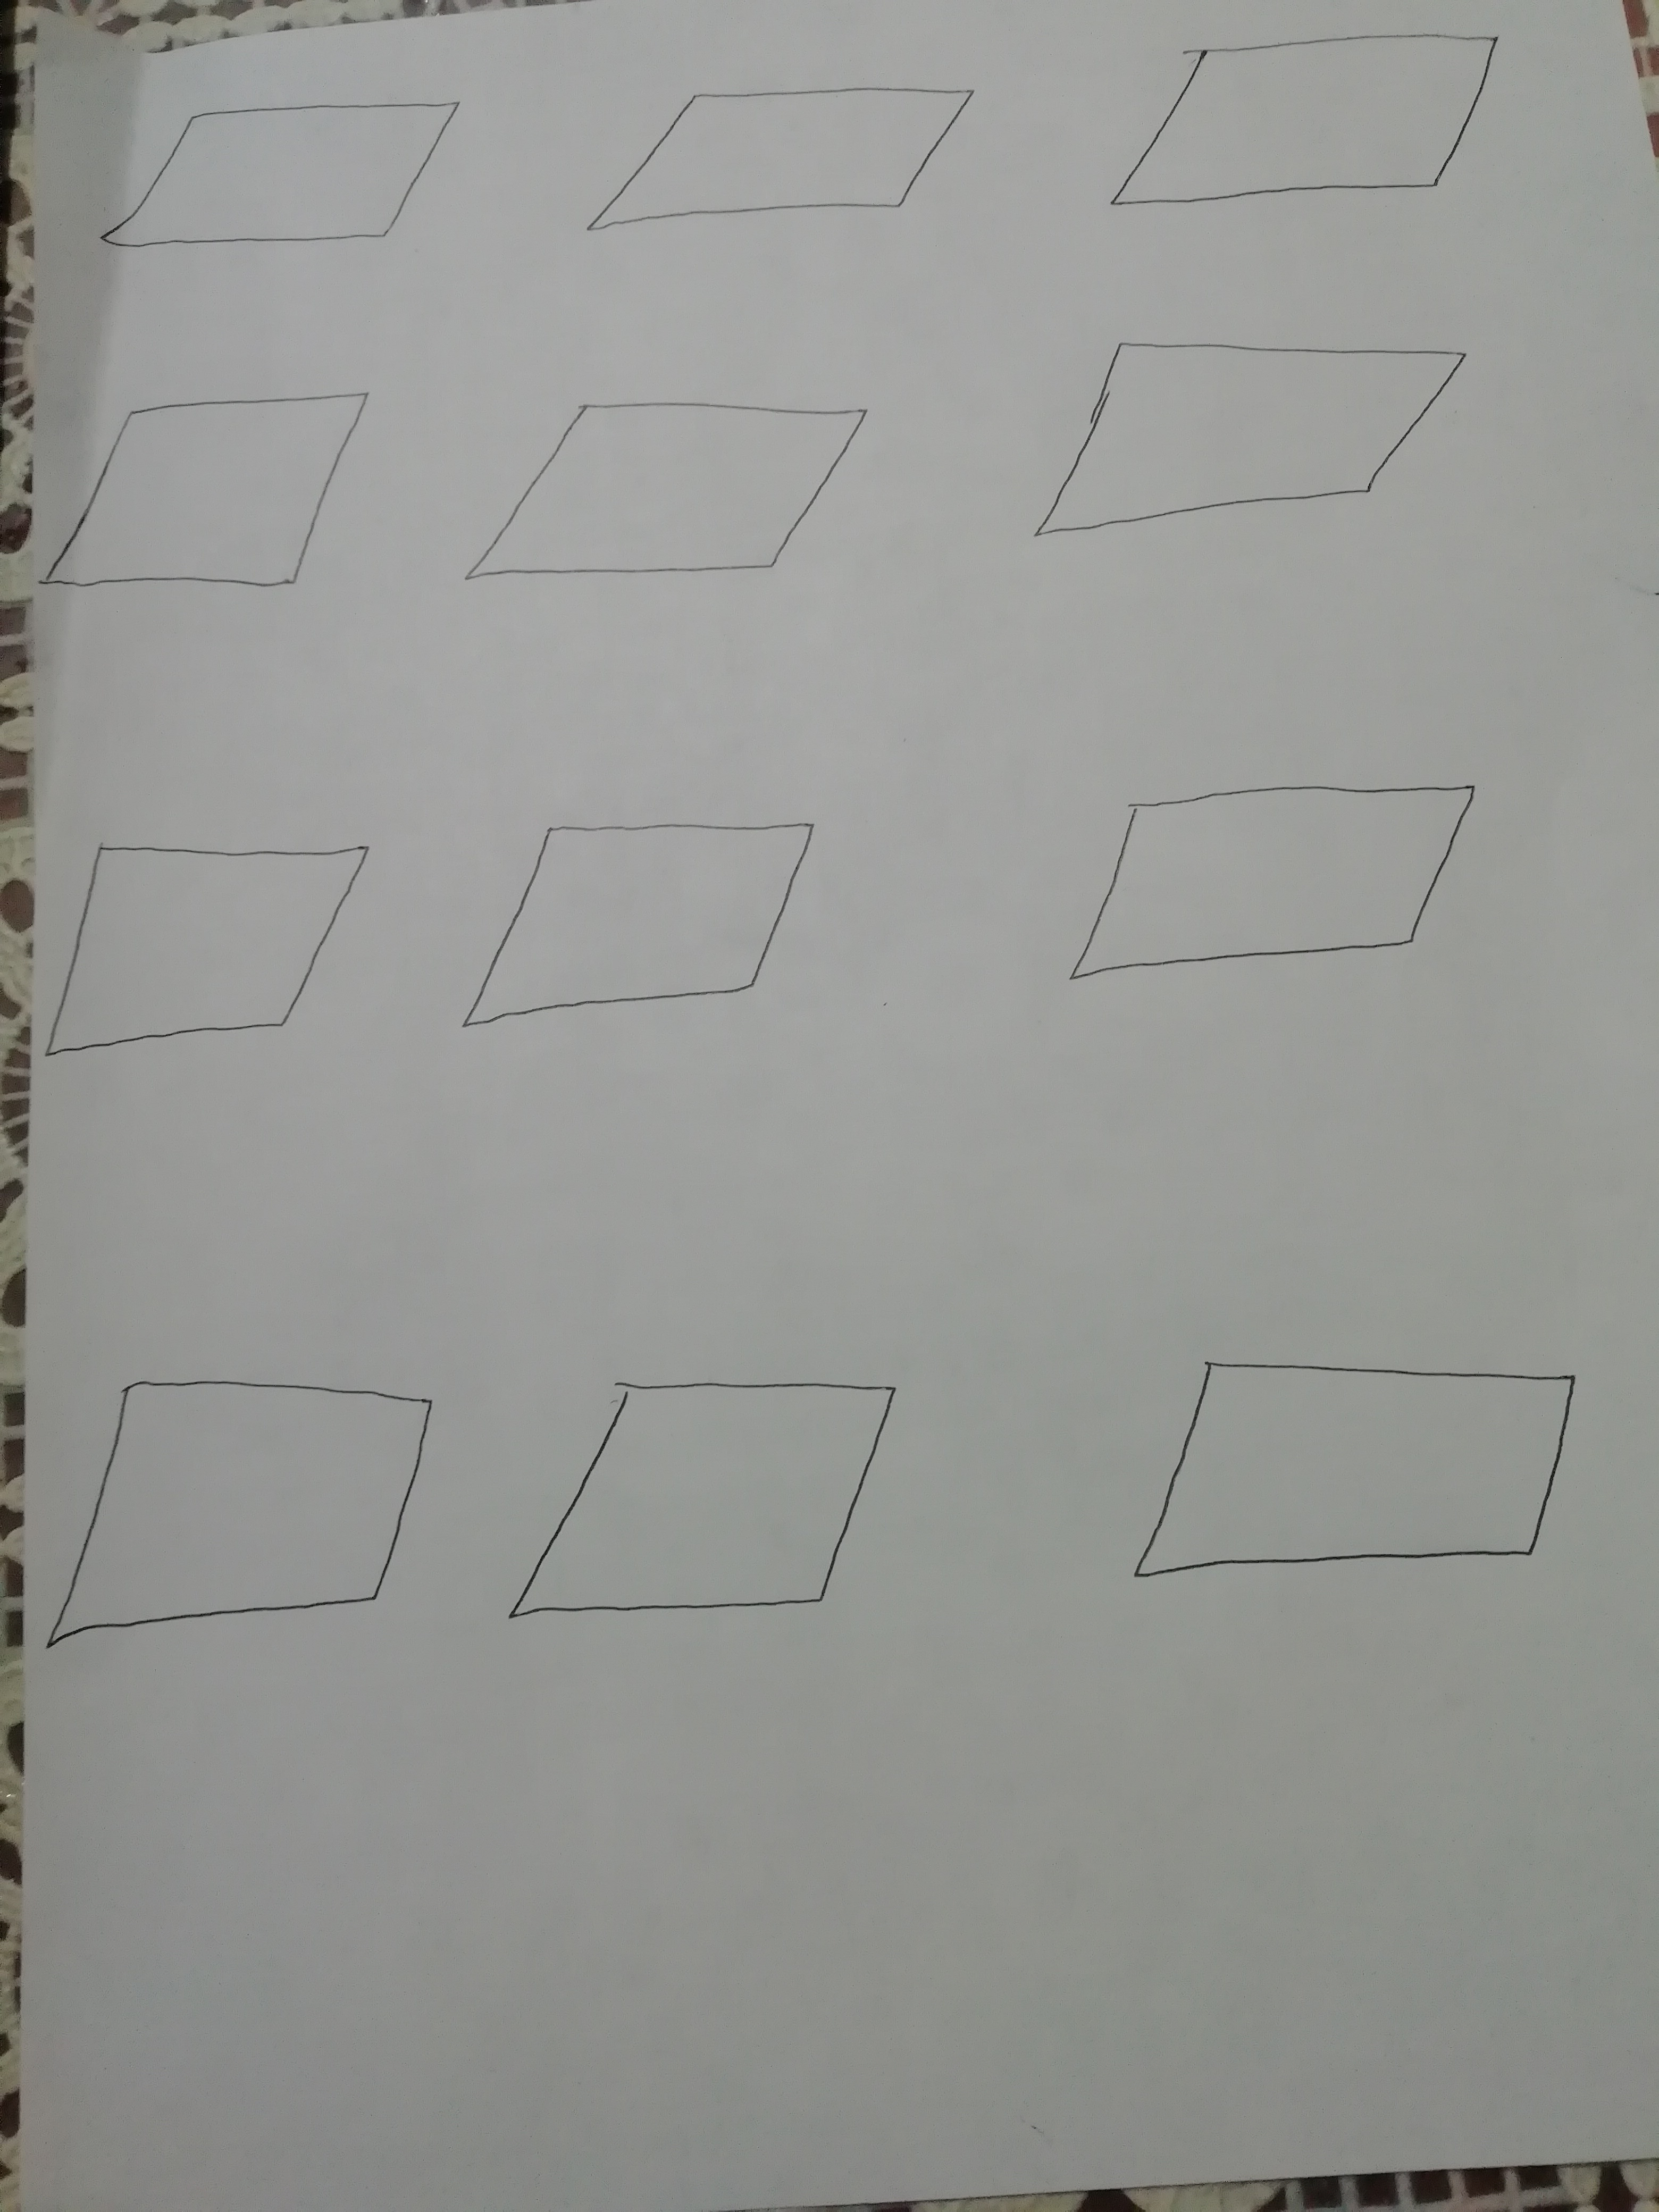scan: (1108, 1305, 1614, 1670), (1019, 298, 1490, 606), (1026, 761, 1537, 1045), (40, 1357, 455, 1705), (481, 1346, 934, 1655), (451, 801, 884, 1064), (458, 380, 901, 627), (1101, 10, 1544, 240), (30, 376, 406, 637), (37, 836, 399, 1092), (71, 66, 469, 284), (565, 66, 990, 256)
